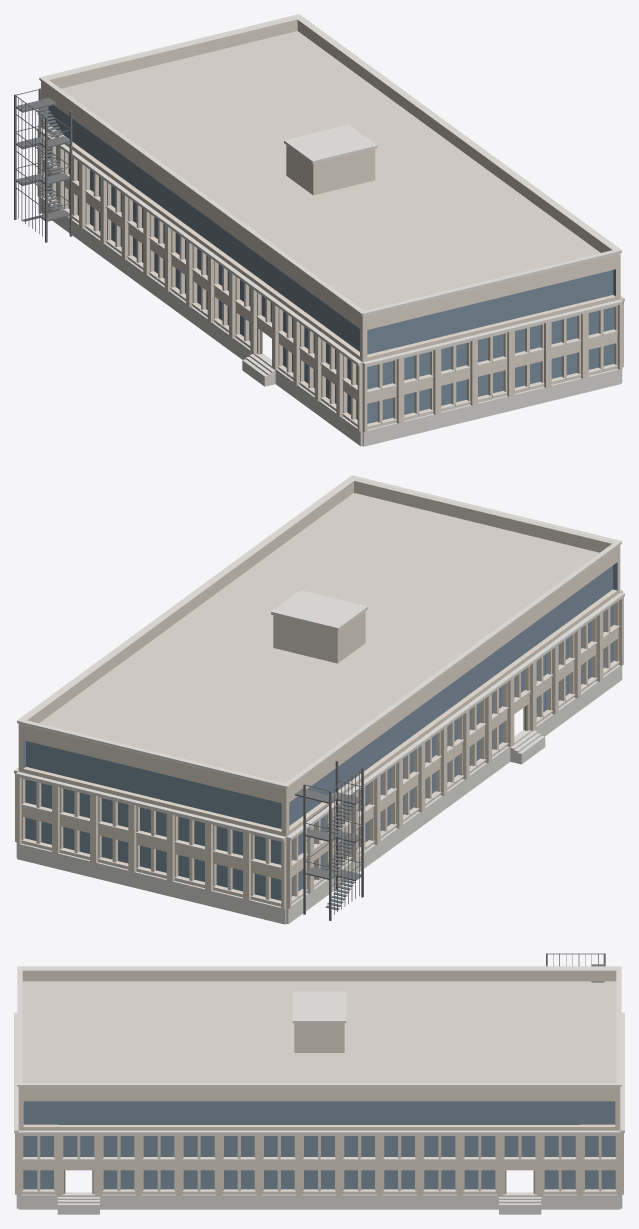
File: Sports_Complex.fbx
The picture shows the model from 3 angles, top to bottom: view 1: azimuth 30°, elevation 25°; view 2: azimuth 150°, elevation 25°; view 3: azimuth 270°, elevation 25°; orthographic projection. The views are drawn at different scales.
Parts seen in each view (by area): view 1: Sports_Complex; view 2: Sports_Complex; view 3: Sports_Complex.
Part boxes in pixels (x1=…): Sports_Complex: x1=14, y1=14, x2=624, y2=446; Sports_Complex: x1=14, y1=475, x2=624, y2=924; Sports_Complex: x1=14, y1=953, x2=624, y2=1214.
Bounding box in the file's own units: 29.61 × 14.25 × 54.84.
